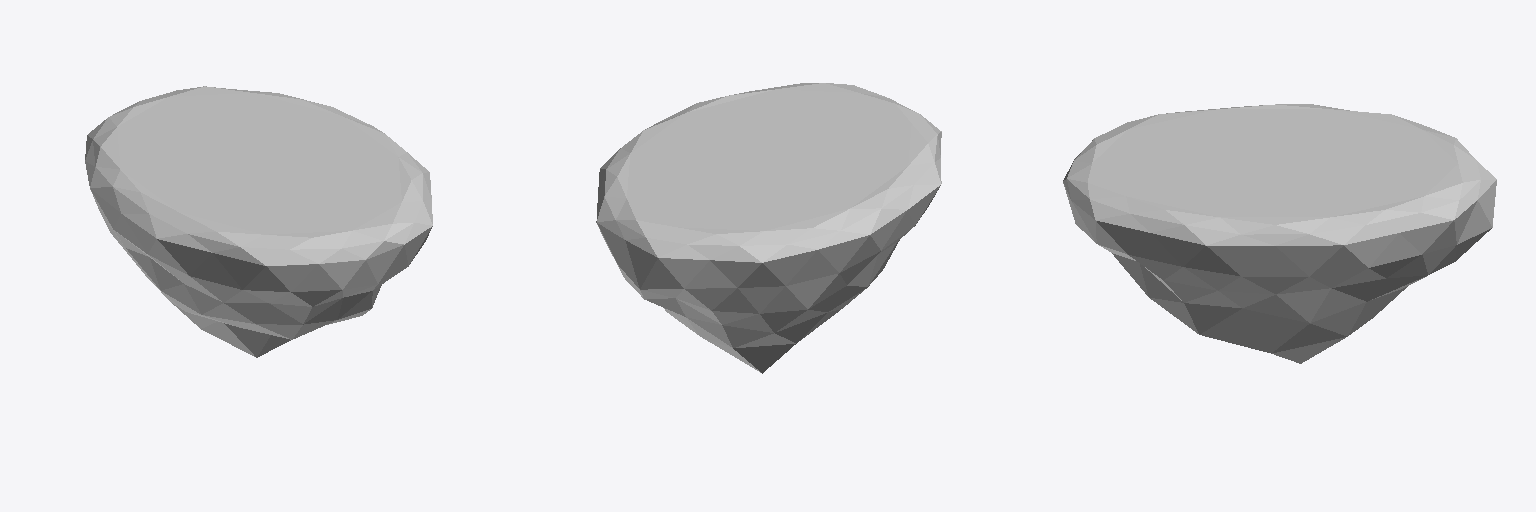
Rendered from island.obj.
3 views of the same model, side by side, from view 1: azimuth 30°, elevation 25°; view 2: azimuth 150°, elevation 25°; view 3: azimuth 270°, elevation 25° (orthographic).
Bounding box in the file's own units: 108 × 70.57 × 148.